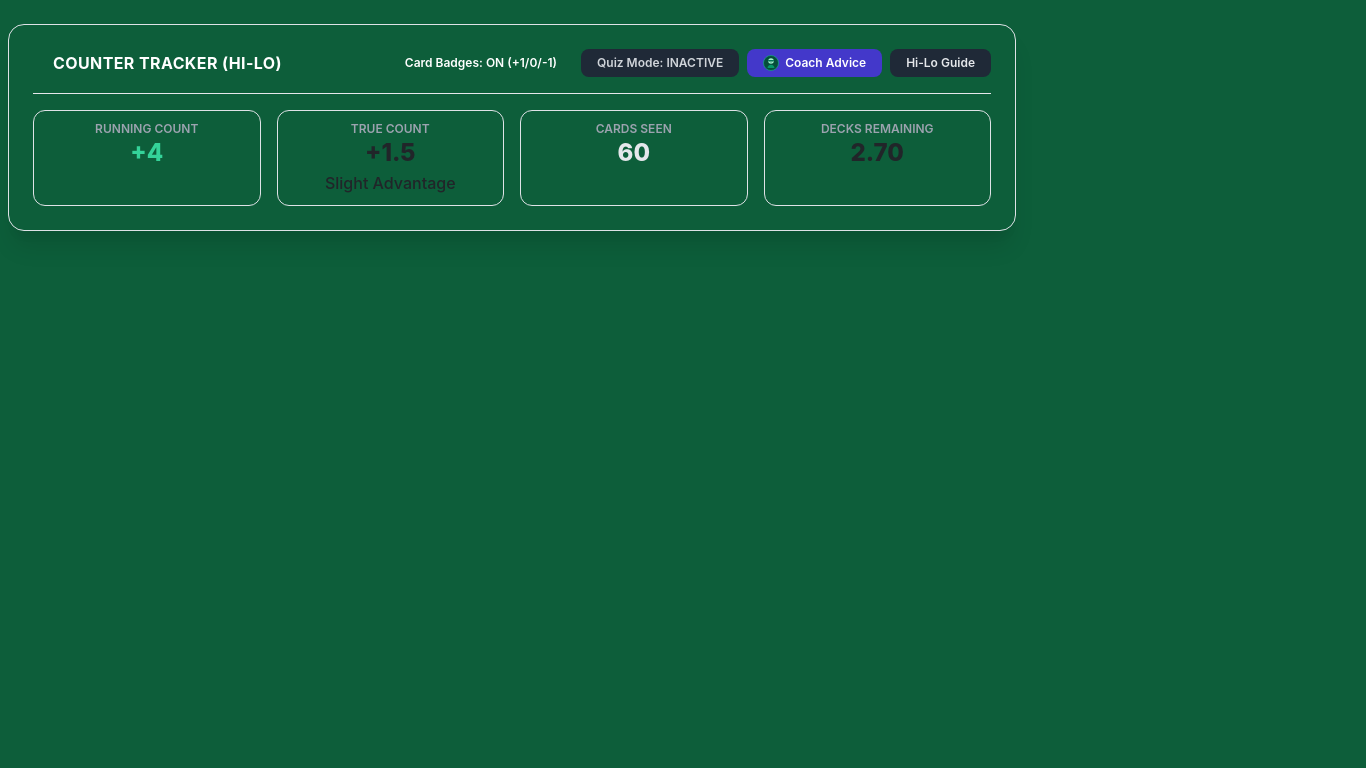
Scenario: CardCountingTrainer component › opens and closes Hi-Lo Guide modal
The width and height of the screenshot is (1366, 768).
Step 1. Click the button "Hi-Lo Guide" → (941, 63), box [890,49,991,77]
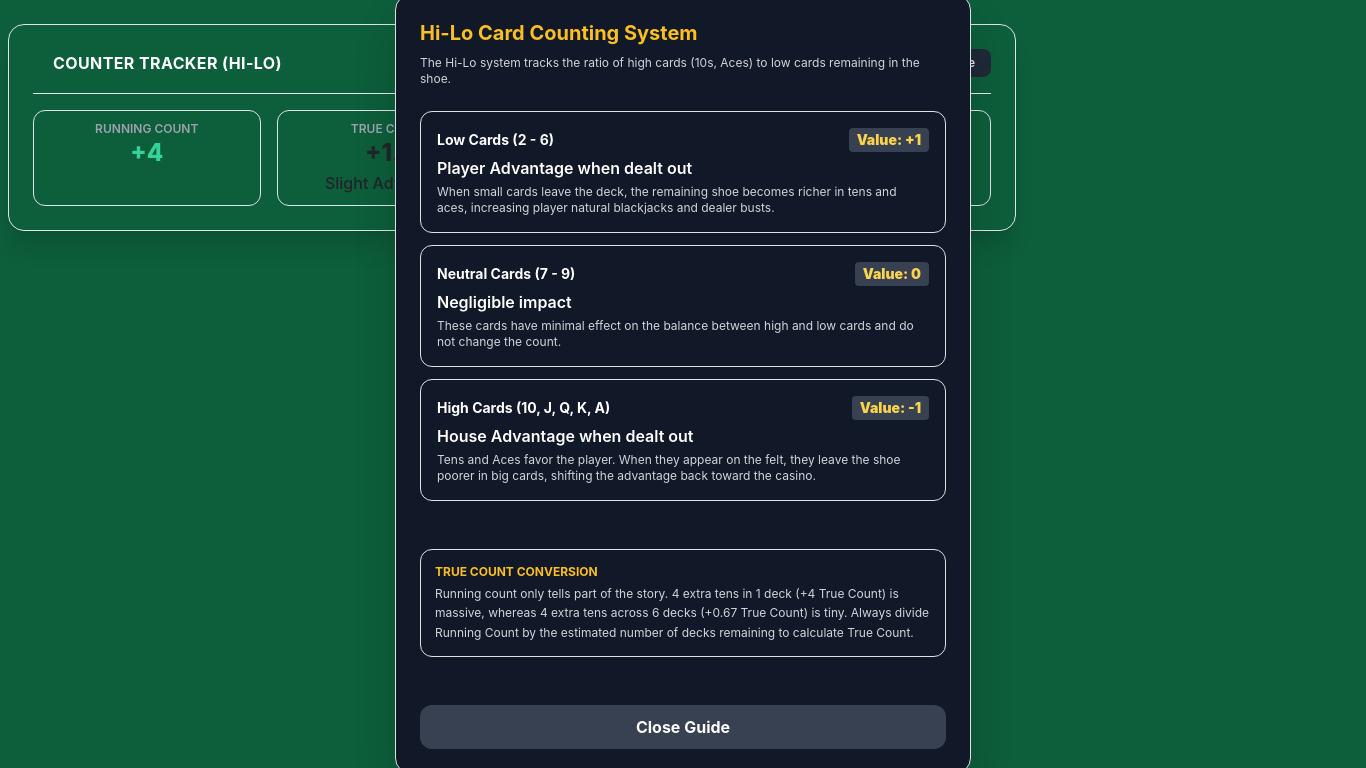
Expected: the heading "Hi-Lo Card Counting System" is shown, [420,21,698,45]
Step 2. Click the button "Close Guide" → (683, 727), box [420,705,946,749]
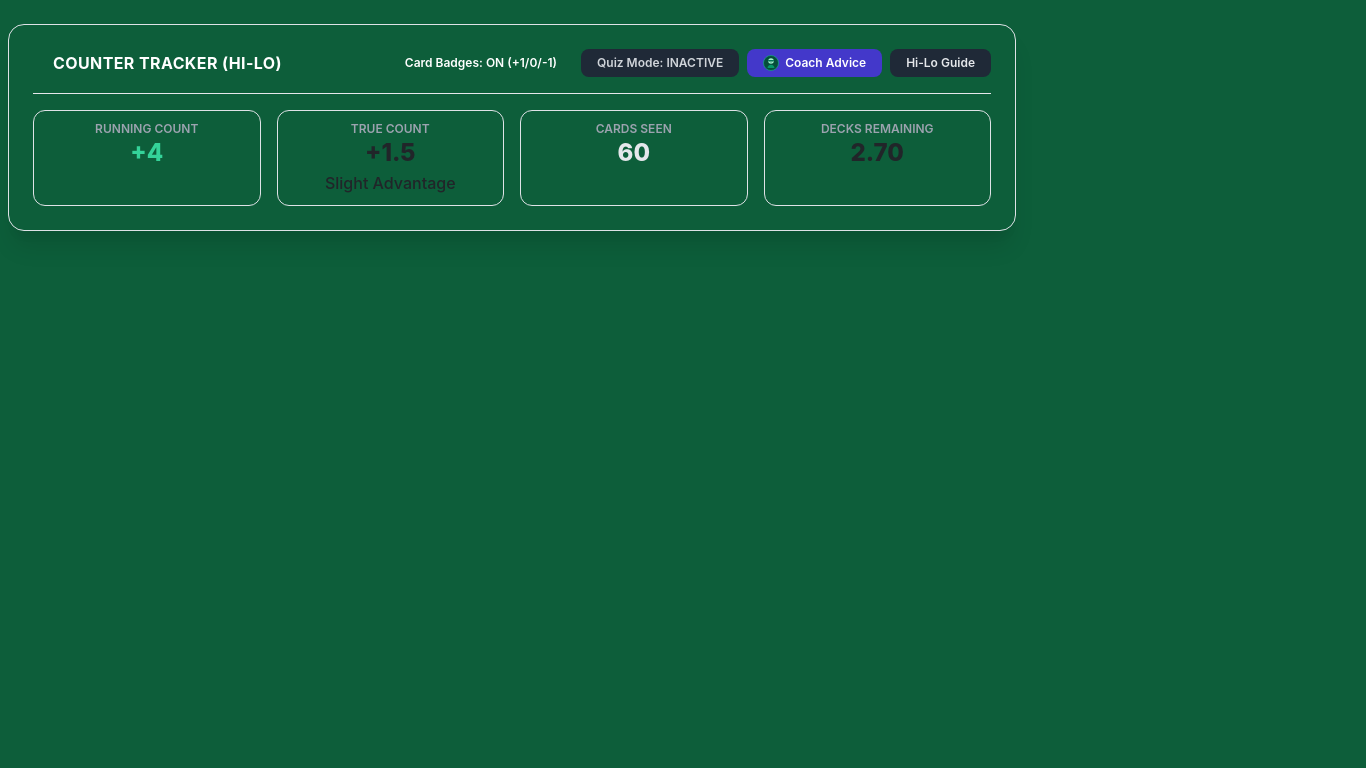
Expected: the heading "Hi-Lo Card Counting System" is gone
